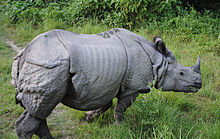rhinoceros: (16, 28, 204, 139)
